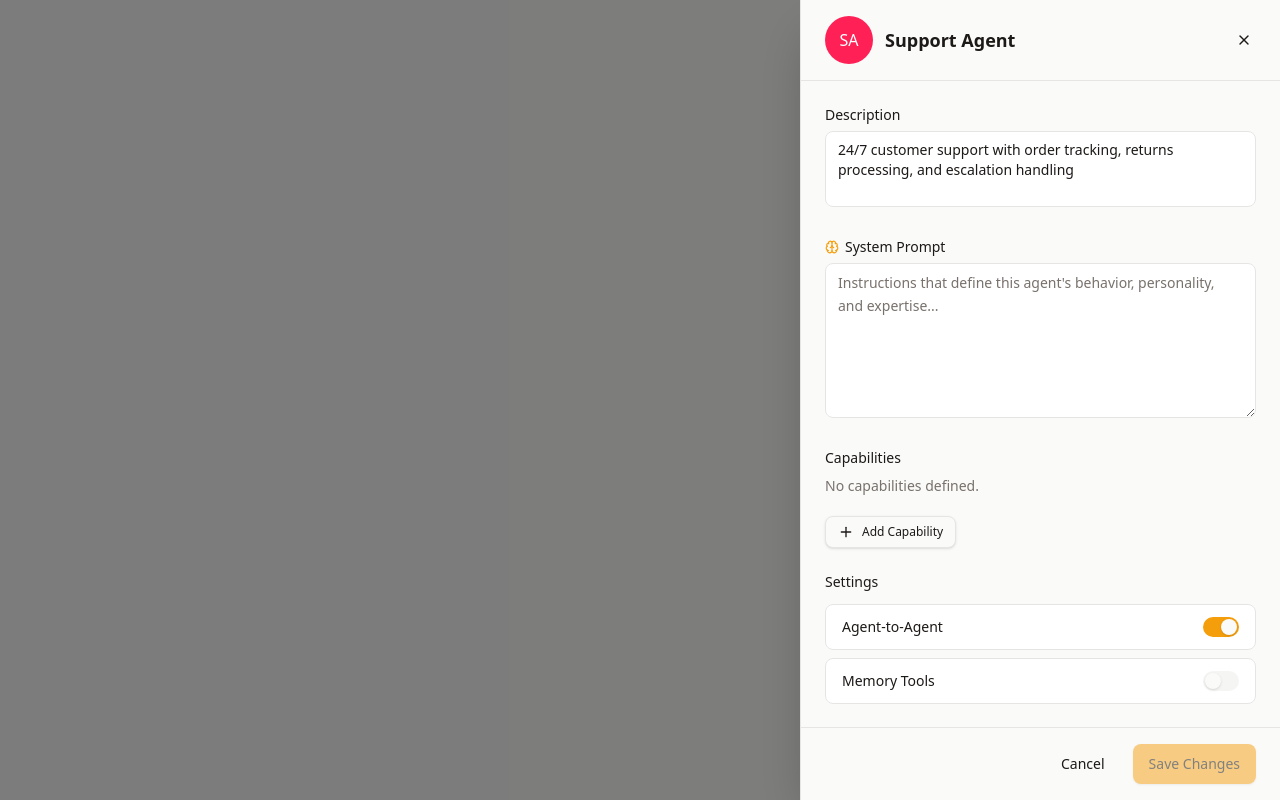
Test: Workforce Components – Coverage Batch 2 › AgentEditorSheet › Save Changes button enables after editing description
Type " extra text" into the text box labelled "Description" at (1040, 169), box [825,131,1256,207]
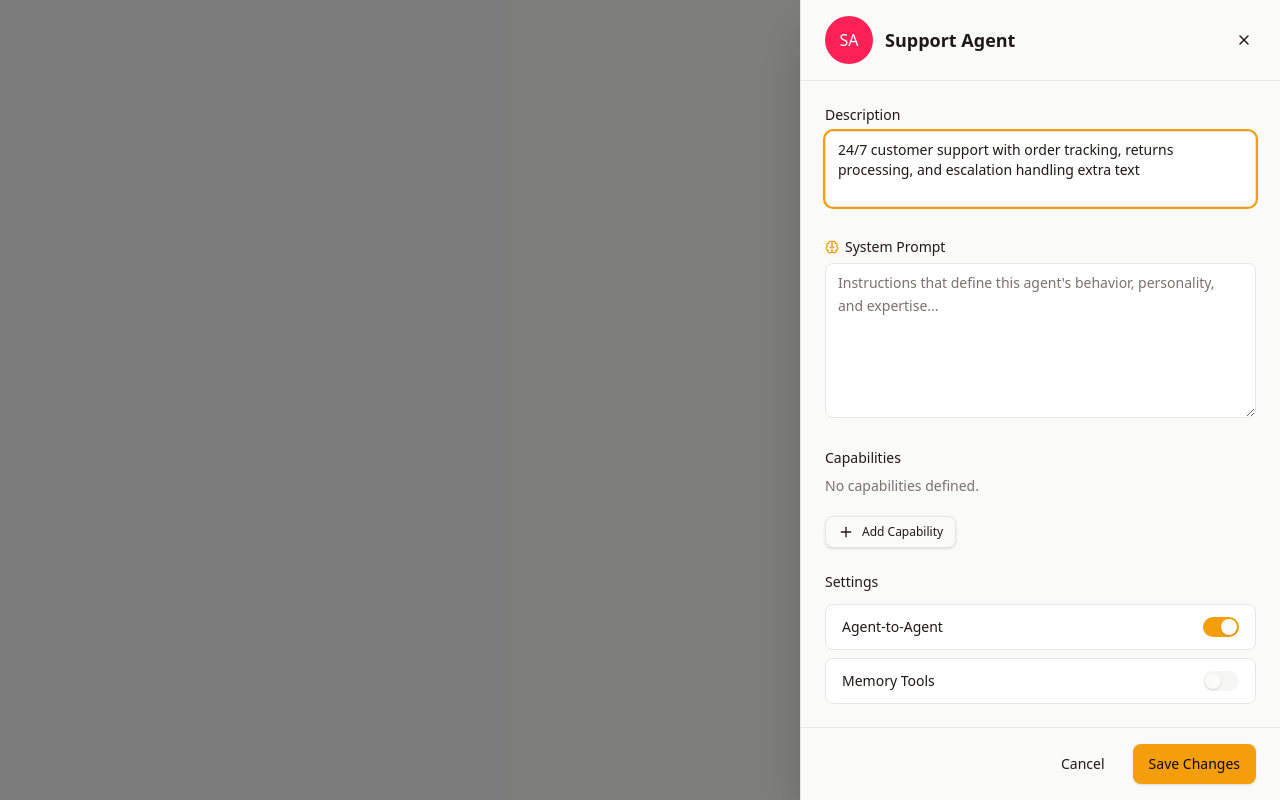
Expected: the button "Save Changes" is enabled, [1133,744,1256,784]
